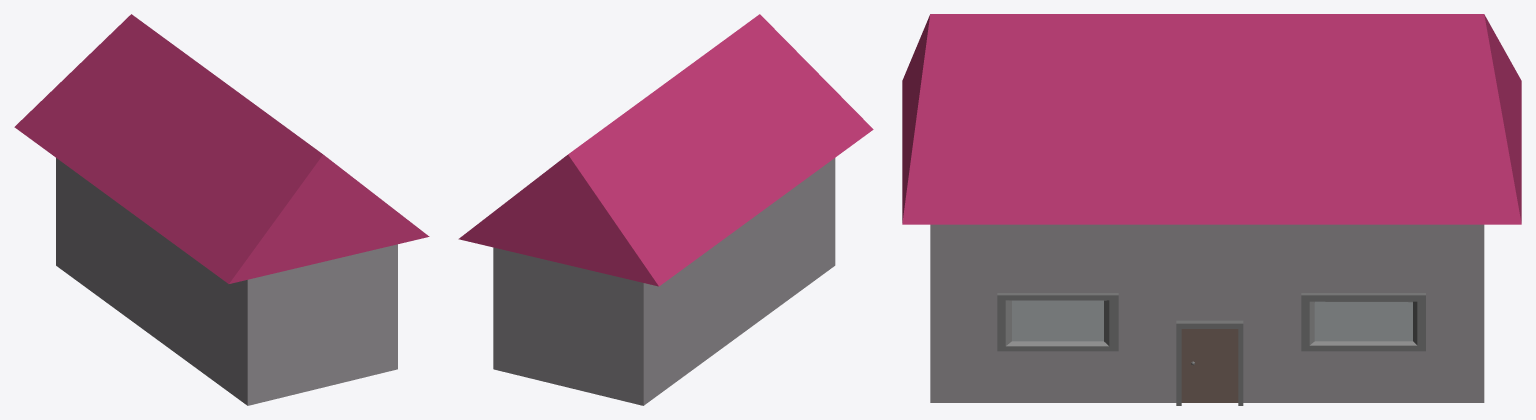
File: Small 1.fbx
The picture shows the model from 3 angles, left to right: view 1: azimuth 30°, elevation 25°; view 2: azimuth 150°, elevation 25°; view 3: azimuth 270°, elevation 25°; orthographic projection. The views are drawn at different scales.
Parts seen in each view (by area): view 1: pCube2; view 2: pCube2; view 3: pCube2.
Part boxes in pixels (x1,y1,x2,y2): pCube2: [14, 14, 429, 405]; pCube2: [458, 14, 873, 405]; pCube2: [902, 14, 1521, 405].
Bounding box in the file's own units: 7.99 × 8.86 × 14.79.
